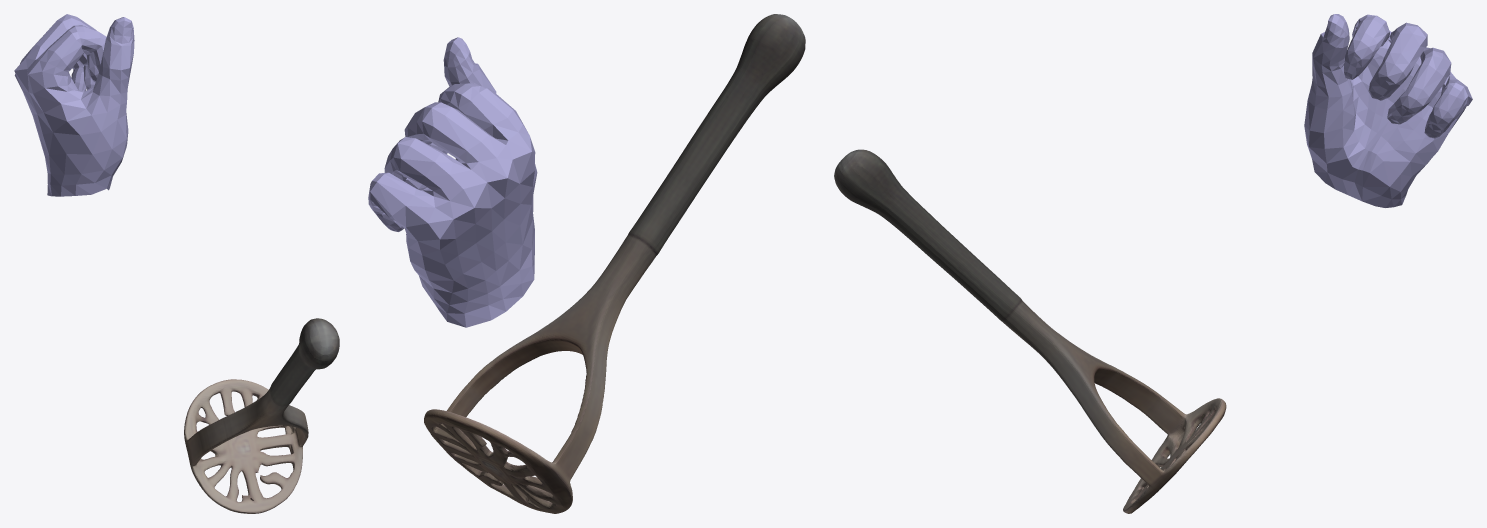
The model's file is frame_0064_source_000064_hand_object.glb.
3 renders of one model, left to right at view 1: azimuth 30°, elevation 25°; view 2: azimuth 150°, elevation 25°; view 3: azimuth 270°, elevation 25°, orthographic. The views are drawn at different scales.
Parts seen in each view (by area): view 1: world; view 2: world; view 3: world.
Part boxes in pixels (bbox=[...]): world: bbox=[14, 14, 339, 513]; world: bbox=[368, 14, 805, 513]; world: bbox=[834, 14, 1472, 513].
Size of the model in its own units: 0.12 by 0.2909 by 0.3561.
